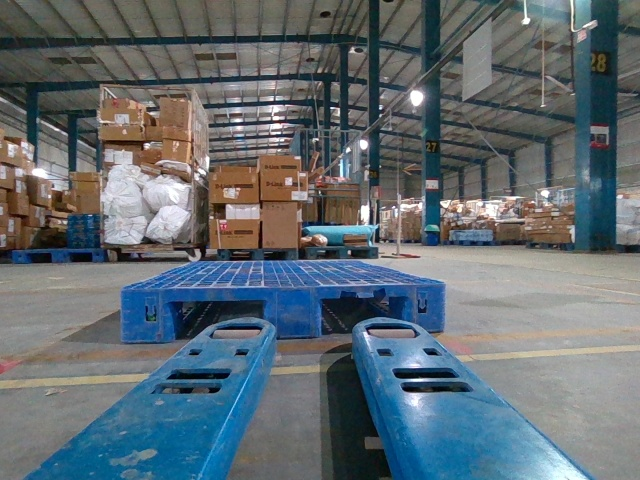block: (267, 283, 324, 338), (119, 286, 173, 342), (407, 279, 448, 332)
front: (124, 280, 447, 339)
hole pallet: (168, 294, 270, 344), (315, 290, 412, 340)
